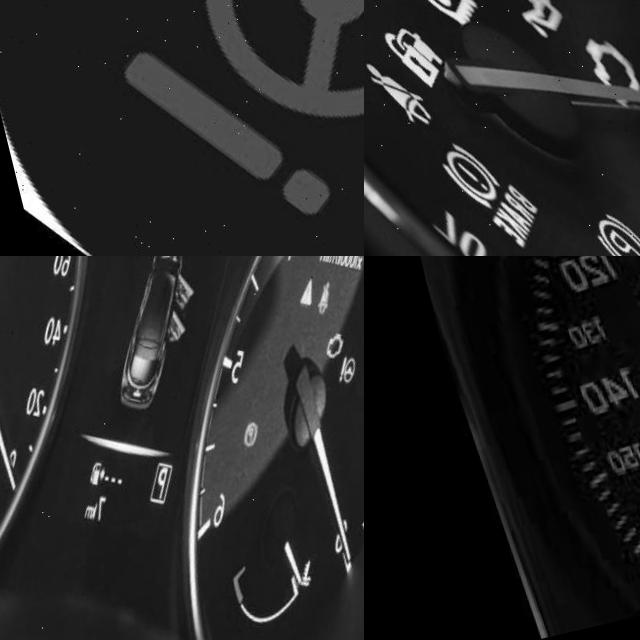Electronic Power Steering Warning: (319, 381, 346, 413)
Seat Belt: (364, 59, 414, 139), (299, 305, 326, 342), (631, 344, 640, 398)
